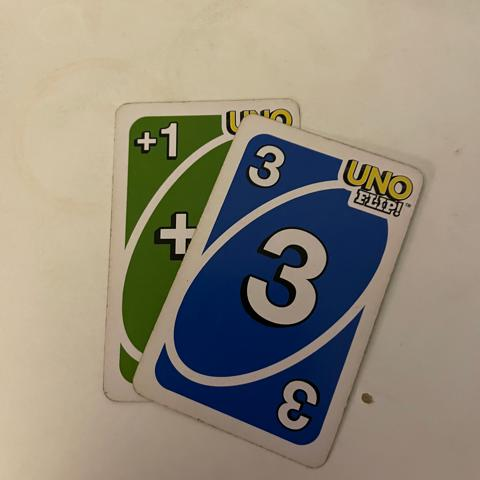lblue-3: (244, 131, 291, 203)
lgreen-10: (124, 110, 194, 178)
